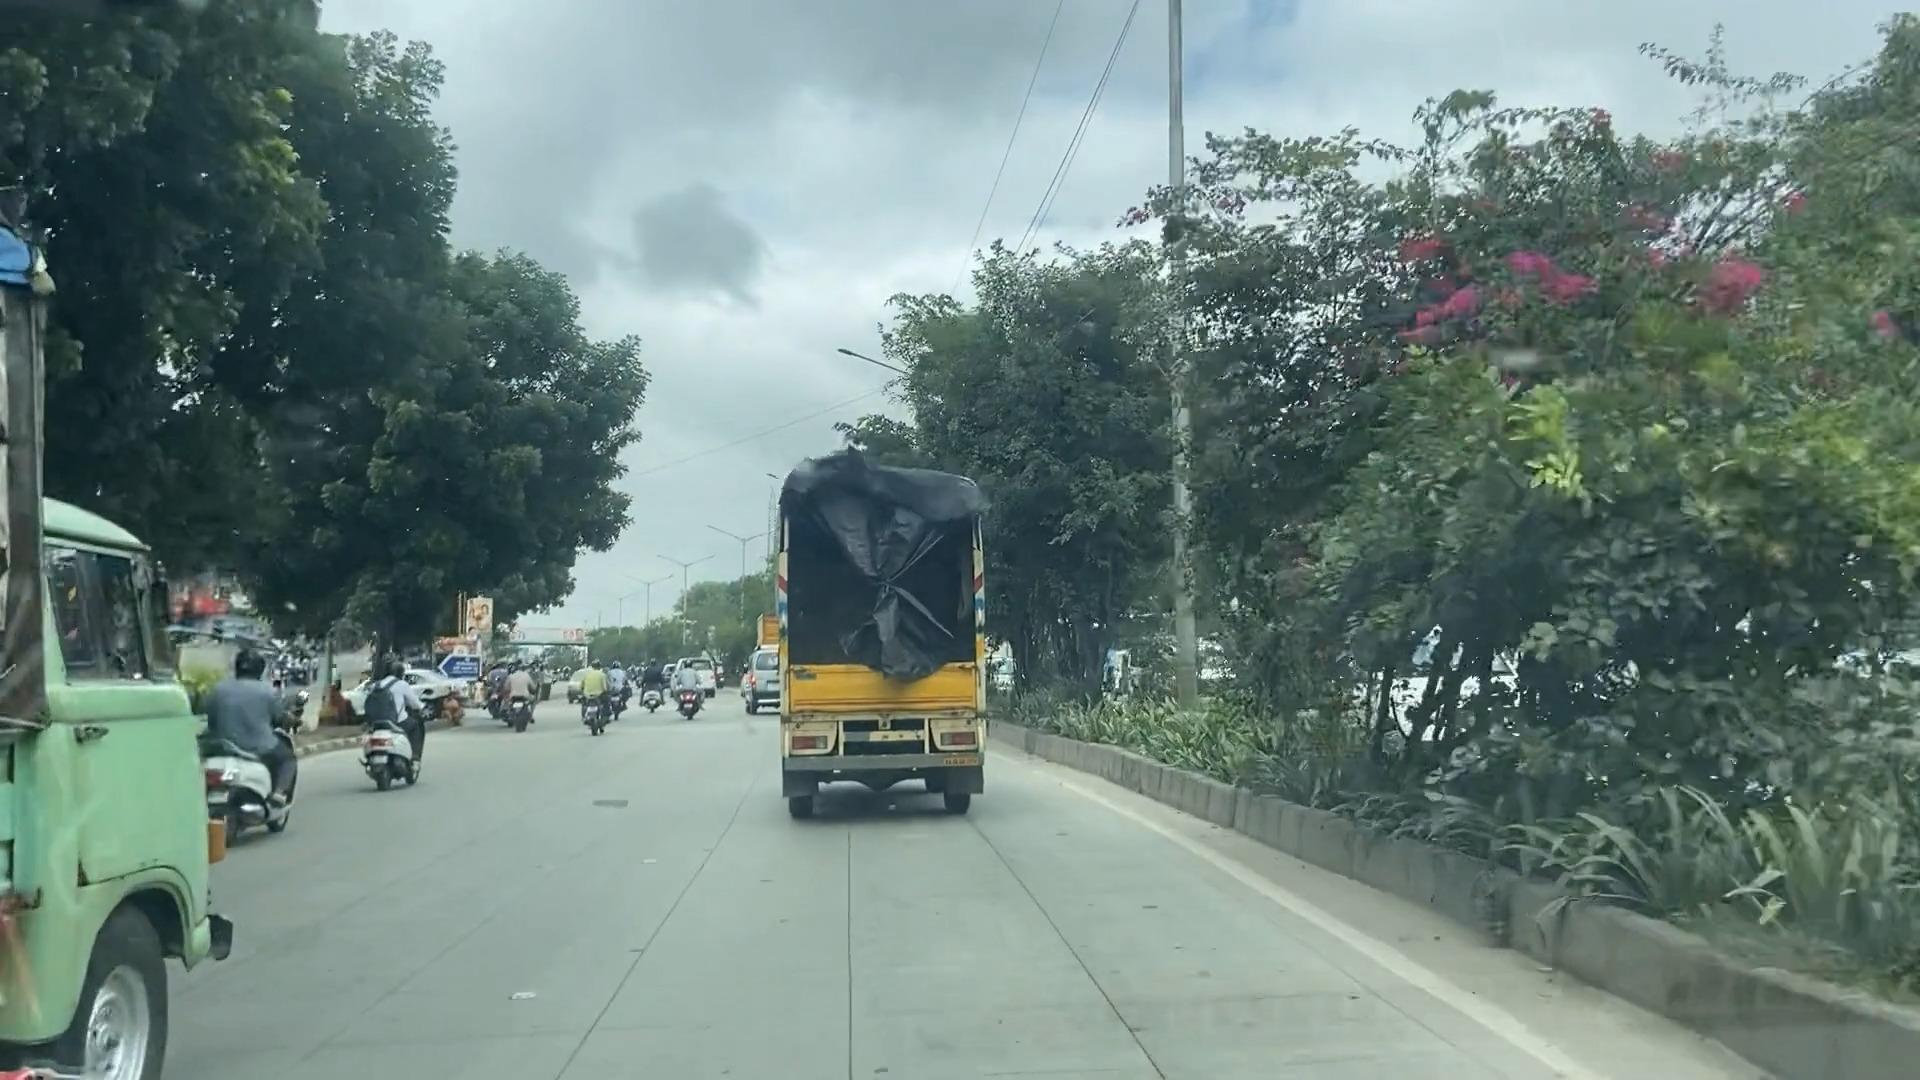HMV: (0, 193, 266, 1080), (742, 393, 1043, 905)
